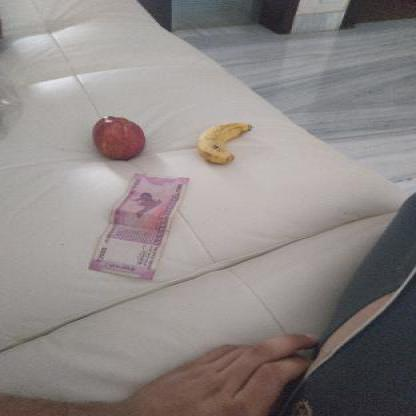New2000Back: (86, 173, 194, 279)
